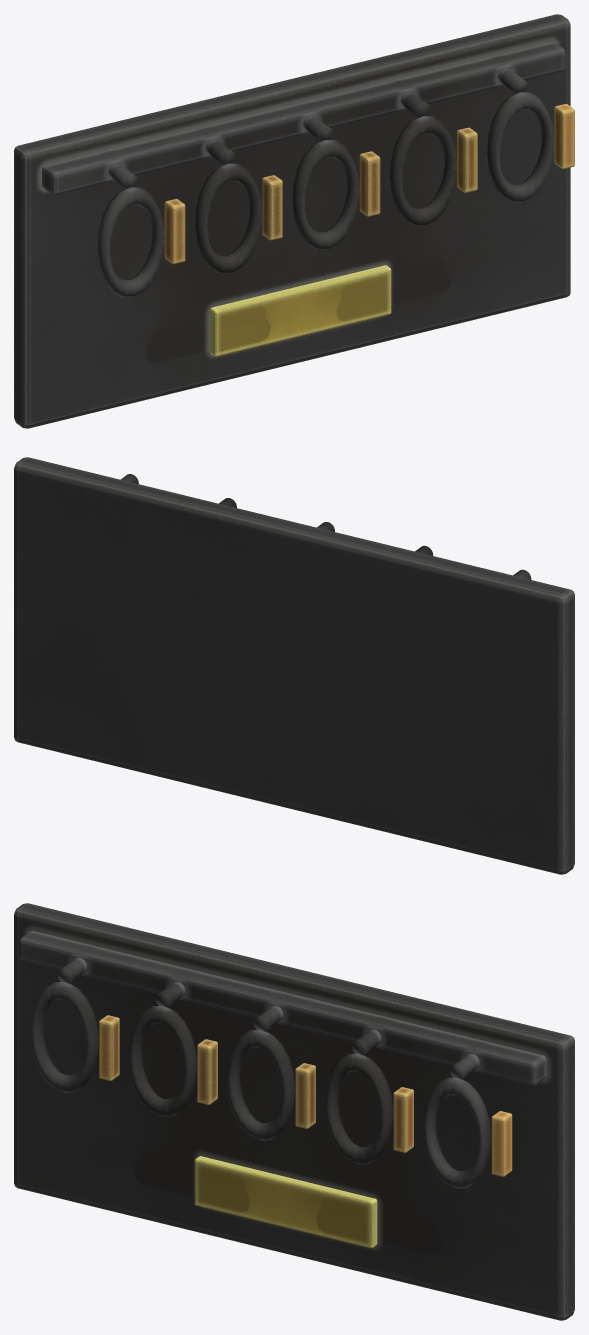
Rendered from airlock_carabiner_rack.glb.
The picture shows the model from 3 angles, top to bottom: view 1: azimuth 30°, elevation 25°; view 2: azimuth 150°, elevation 25°; view 3: azimuth 330°, elevation 25°; orthographic projection.
Parts seen in each view (by area): view 1: CarabinerRack; view 2: CarabinerRack; view 3: CarabinerRack.
Boxes of the visible parts, x1,y1,x2,y2 form: CarabinerRack: (14, 14, 574, 428); CarabinerRack: (14, 457, 574, 874); CarabinerRack: (14, 903, 574, 1320).
Bounding box in the file's own units: 0.62 × 0.3 × 0.0862.
4 materials, 4 textured.
